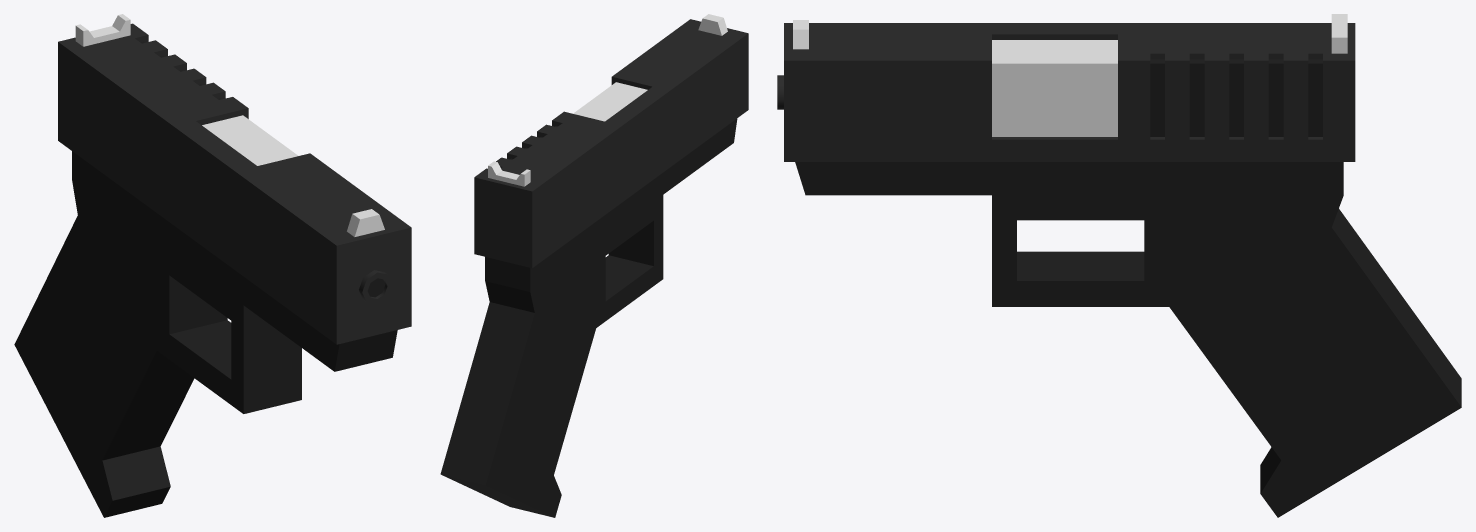
File: Gun3.fbx
3 renders of one model, left to right at view 1: azimuth 30°, elevation 25°; view 2: azimuth 150°, elevation 25°; view 3: azimuth 270°, elevation 25°, orthographic. The views are drawn at different scales.
Visible parts, largest first — view 1: pistol; view 2: pistol; view 3: pistol.
Boxes of the visible parts, box(x1,y1,x2,y2) form: pistol: box(14, 14, 411, 517); pistol: box(440, 14, 748, 517); pistol: box(777, 14, 1461, 517).
Bounding box in the file's own units: 2.4 × 14.3 × 18.54.
